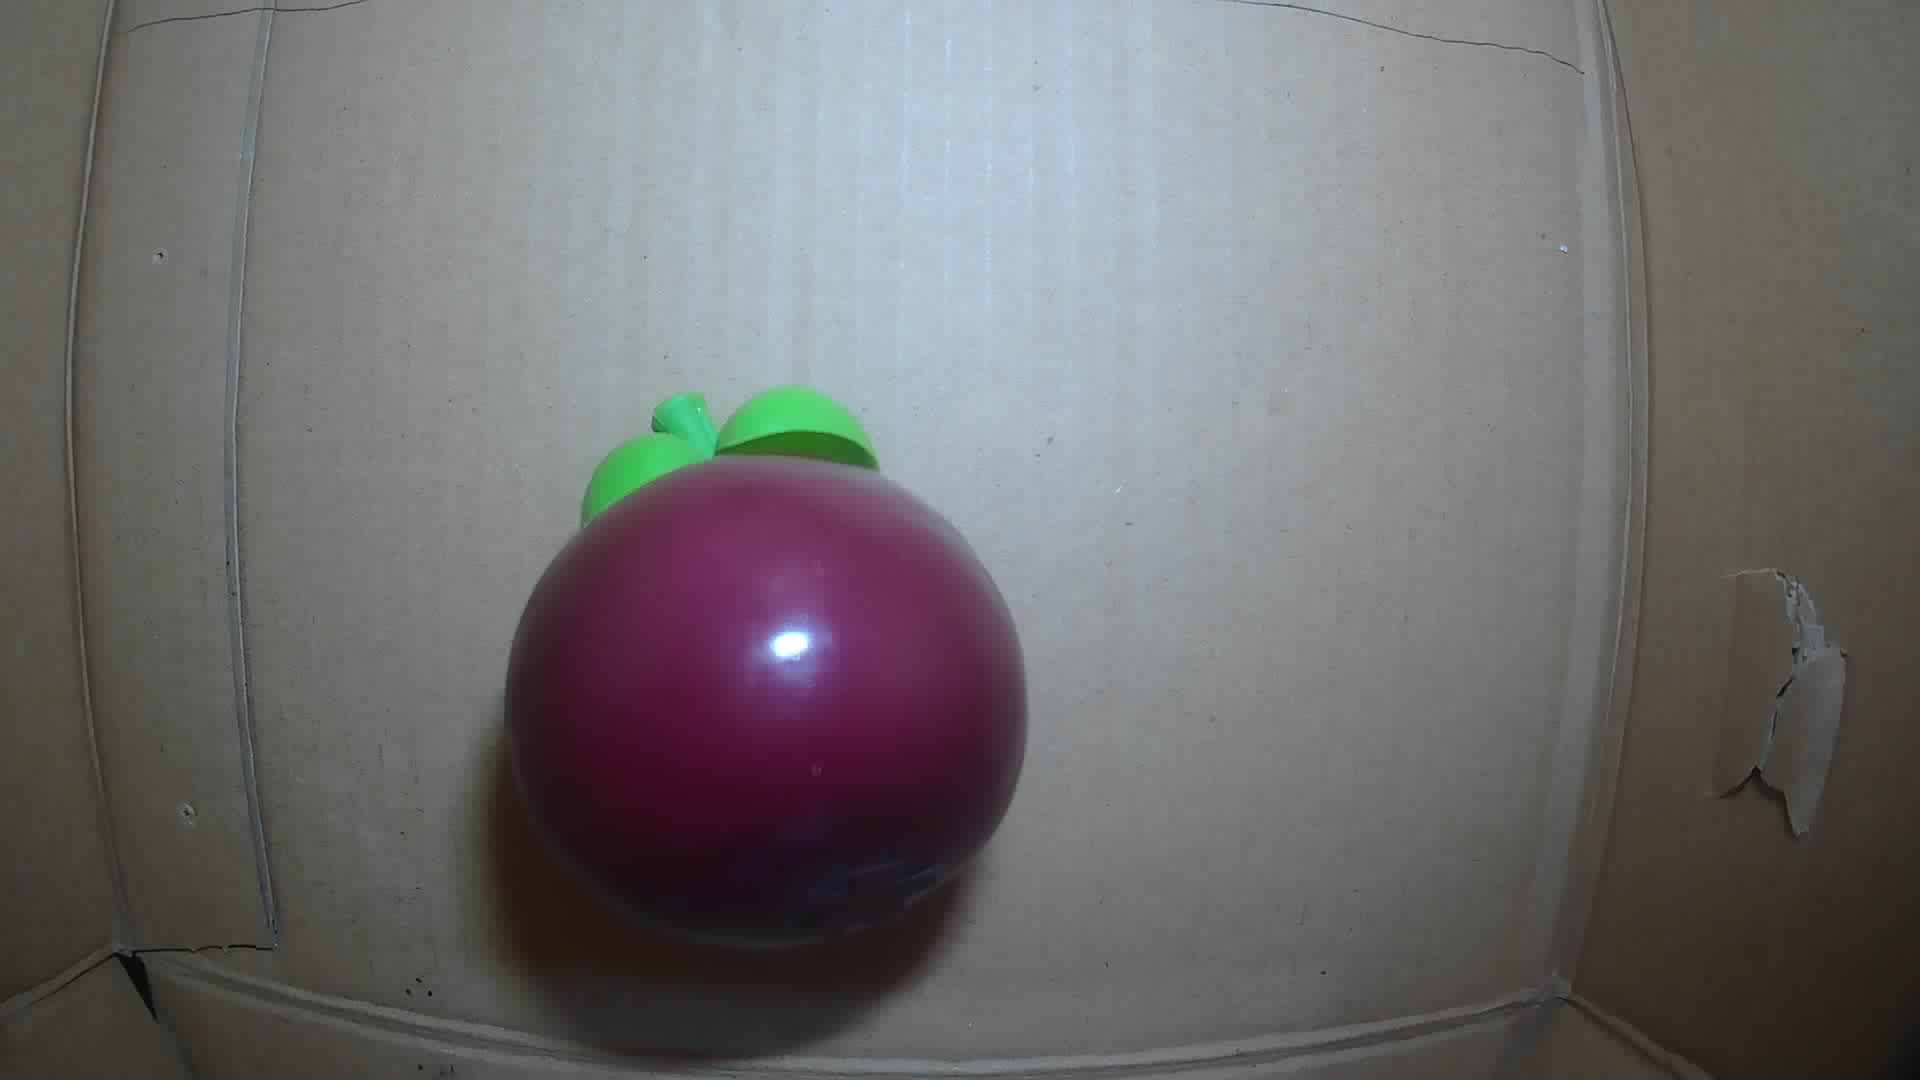mangosteen: (502, 382, 1029, 948)
